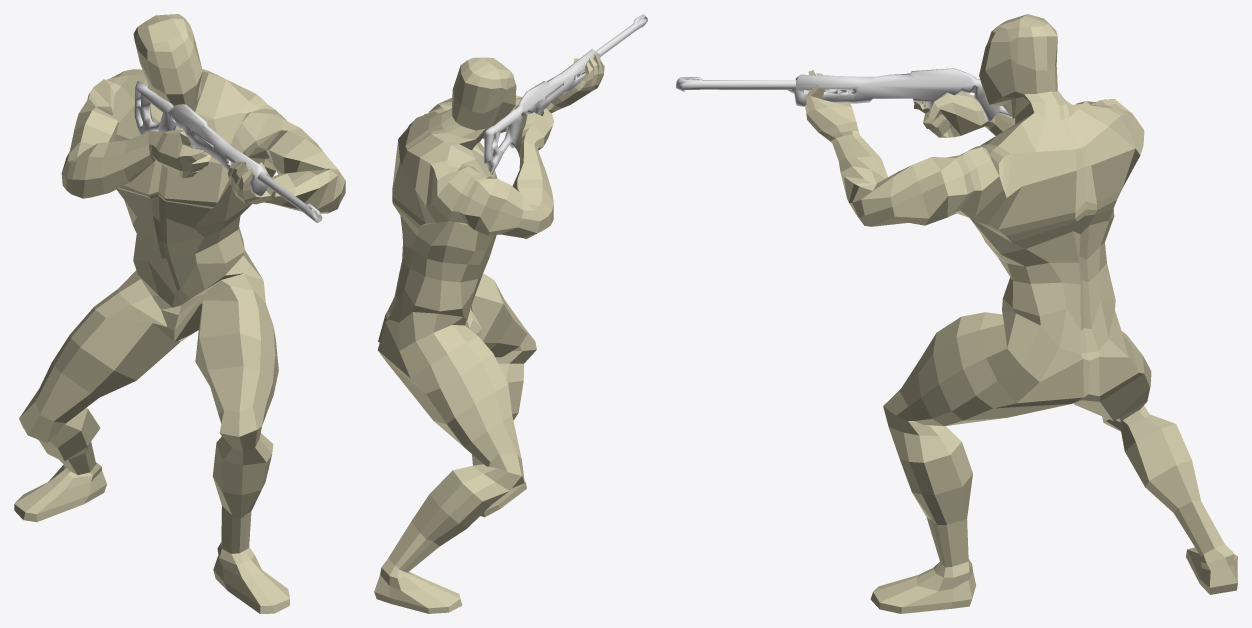
The model's file is New Soldier.fbx.
3 renders of one model, left to right at view 1: azimuth 30°, elevation 25°; view 2: azimuth 150°, elevation 25°; view 3: azimuth 270°, elevation 25°, orthographic. The views are drawn at different scales.
Visible parts, largest first — view 1: Soldier Male, Cube.001; view 2: Soldier Male, Cube.001; view 3: Soldier Male, Cube.001.
Part boxes in pixels (x1,y1,x2,y2): Soldier Male: [14, 14, 345, 613]; Cube.001: [134, 81, 322, 223]; Soldier Male: [374, 54, 604, 613]; Cube.001: [484, 14, 647, 174]; Soldier Male: [805, 14, 1237, 613]; Cube.001: [676, 68, 1012, 127].
Size of the model in its own units: 62.36 by 161 by 145.
